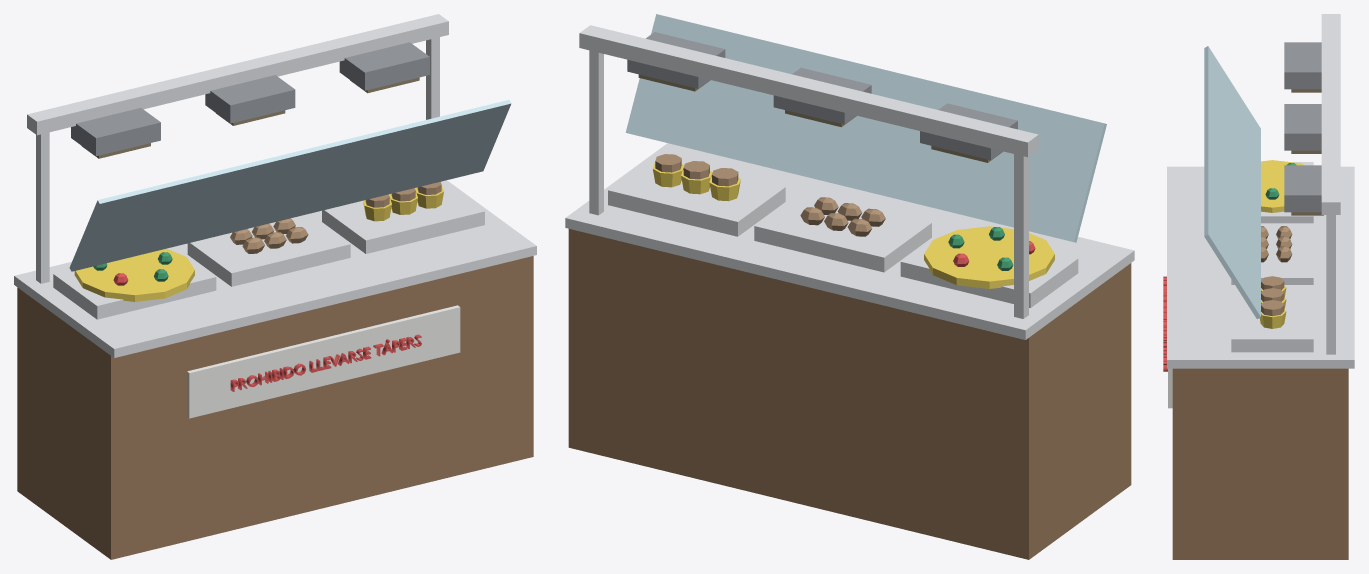
Rendered from CR_Bufe.fbx.
3 views of the same model, side by side, from view 1: azimuth 30°, elevation 25°; view 2: azimuth 150°, elevation 25°; view 3: azimuth 270°, elevation 25° (orthographic). The views are drawn at different scales.
Visible parts, largest first — view 1: CR_Bufe; view 2: CR_Bufe; view 3: CR_Bufe.
Part boxes in pixels (left/top/right/bottom): CR_Bufe: left=14, top=14, right=536, bottom=559; CR_Bufe: left=565, top=14, right=1134, bottom=559; CR_Bufe: left=1163, top=14, right=1354, bottom=559.
Size of the model in its own units: 1.95 by 1.67 by 0.815.
